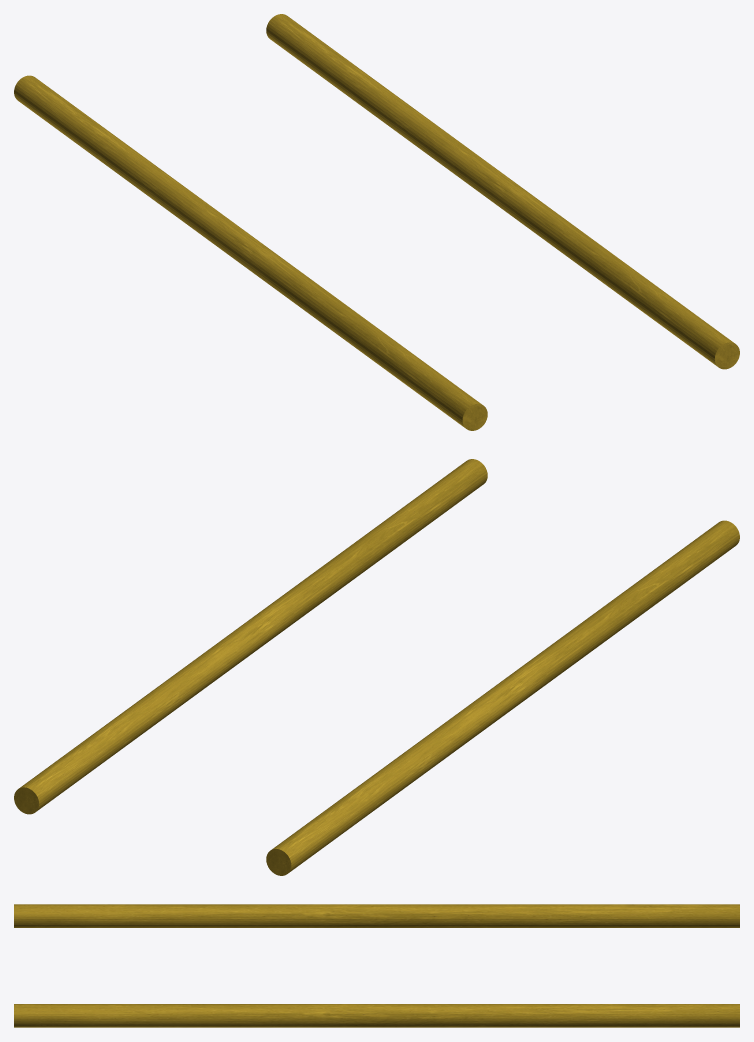
Rendered from medium path new.fbx.
The picture shows the model from 3 angles, top to bottom: view 1: azimuth 30°, elevation 25°; view 2: azimuth 150°, elevation 25°; view 3: azimuth 270°, elevation 25°; orthographic projection. The views are drawn at different scales.
Visible parts, largest first — view 1: medium; view 2: medium; view 3: medium.
Boxes of the visible parts, x1,y1,x2,y2 form: medium: (14,14,739,430); medium: (14,459,739,875); medium: (14,904,739,1027).
Size of the model in its own units: 314 by 28.53 by 879.
1 material, 1 textured.
